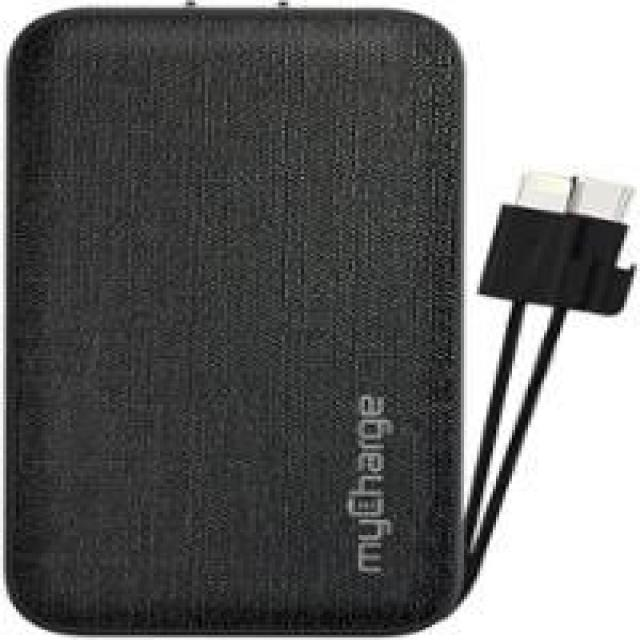power_bank: (9, 2, 473, 629)
